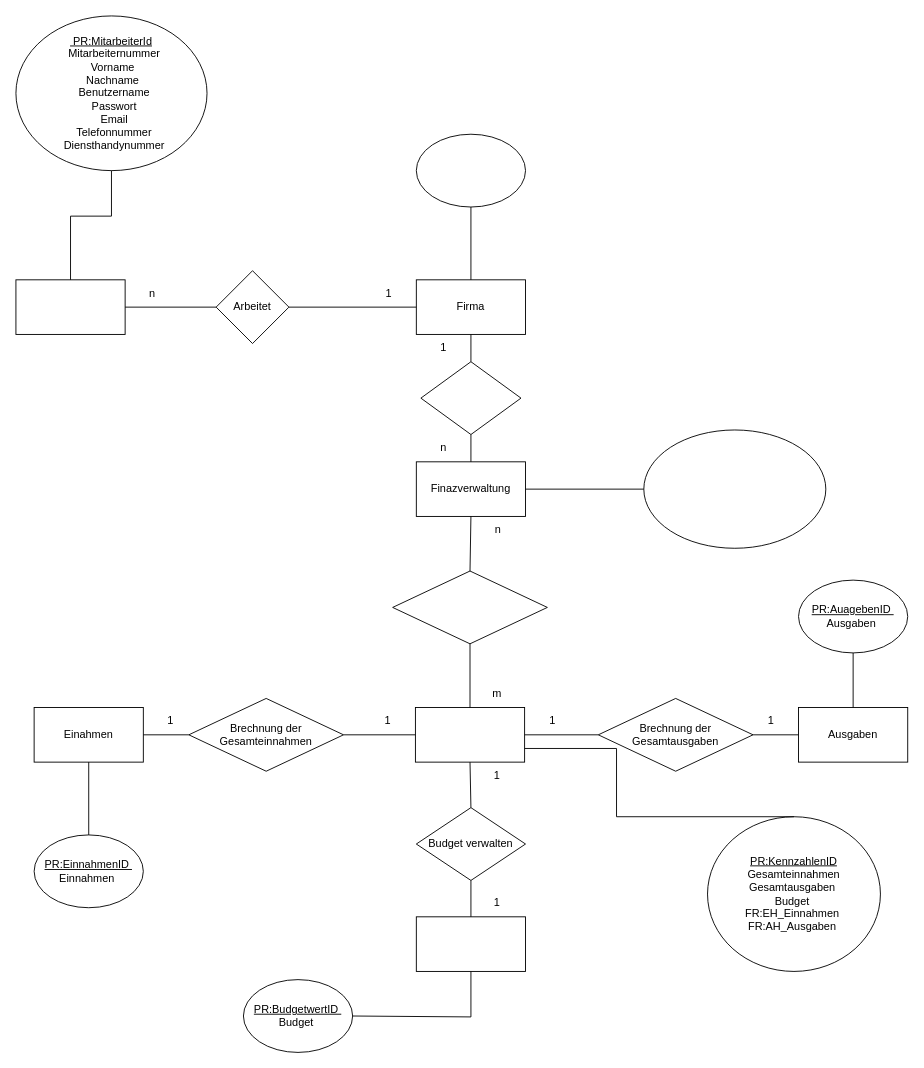
The diagram is 924 pixels wide and 1068 high, and some of its shapes have lost their labels. Each missing label, with the box of its shape:
Arbeite in der Abteilung: (420, 361, 521, 435)
Budget: (415, 916, 526, 971)
Kennzahlen: (415, 707, 525, 762)
Mitarbeiter: (15, 279, 125, 334)
PR:FinanzverwaltungID FR:EH_Einnahmen_VW FR:AH_Ausgaben_VW FR:KZ_Kennzahken_VW: (643, 429, 826, 548)
Verwaltung der Finazen: (392, 570, 547, 644)
